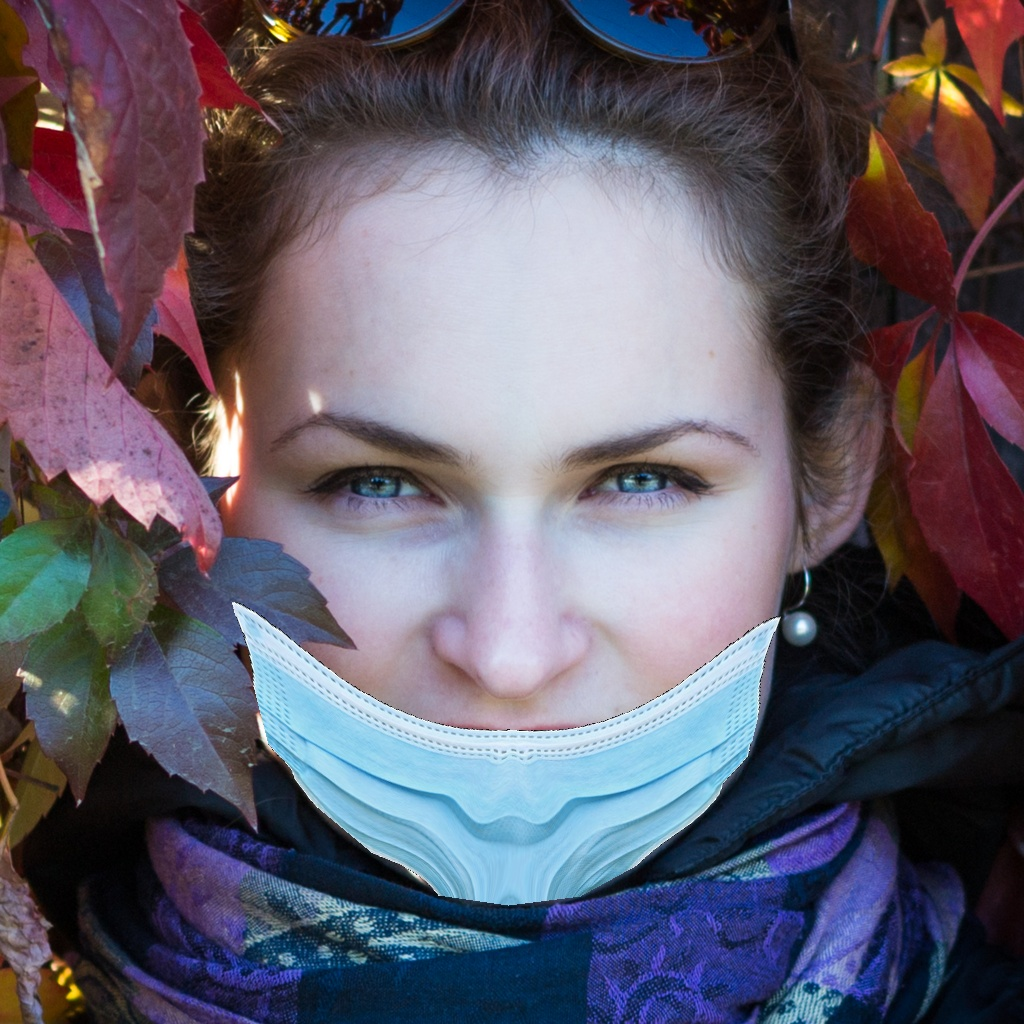Mask_Mouth_Chin: (228, 391, 782, 901)
